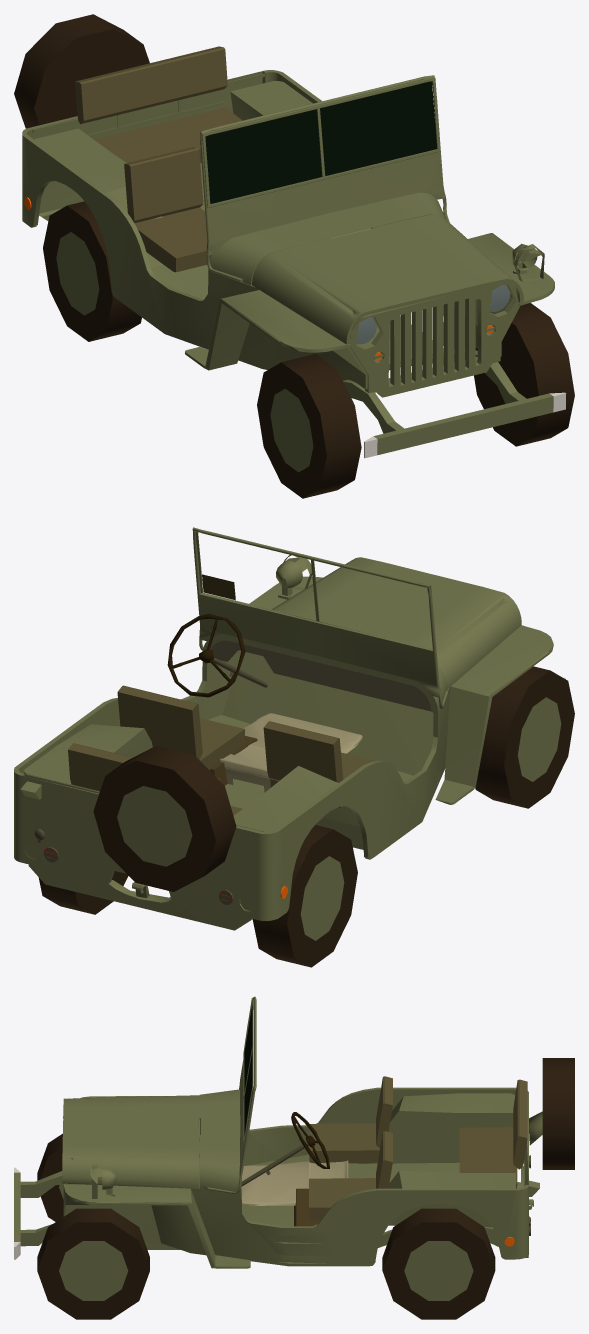
Rendered from Jeep_00.glb.
The picture shows the model from 3 angles, top to bottom: view 1: azimuth 30°, elevation 25°; view 2: azimuth 150°, elevation 25°; view 3: azimuth 270°, elevation 25°; orthographic projection. The views are drawn at different scales.
Parts seen in each view (by area): view 1: WILLGLPS; view 2: WILLGLPS; view 3: WILLGLPS.
Boxes of the visible parts, x1,y1,x2,y2 form: WILLGLPS: (14, 14, 574, 498); WILLGLPS: (14, 527, 574, 967); WILLGLPS: (14, 996, 574, 1319).
Size of the model in its own units: 16.09 by 16.03 by 35.59.
